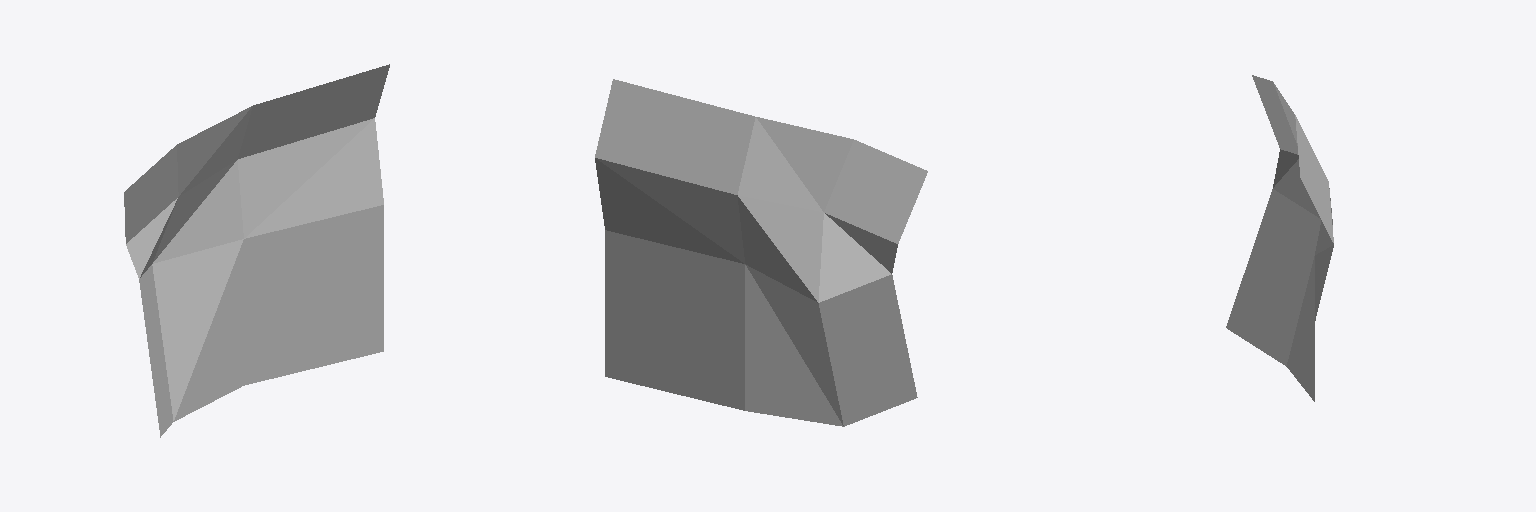
Rendered from smooth-grid.obj.
3 views of the same model, side by side, from view 1: azimuth 30°, elevation 25°; view 2: azimuth 150°, elevation 25°; view 3: azimuth 270°, elevation 25° (orthographic).
Parts seen in each view (by area): view 1: Plane.001; view 2: Plane.001; view 3: Plane.001.
Part boxes in pixels (x1,y1,x2,y2): Plane.001: (124,64,389,437); Plane.001: (595,79,927,426); Plane.001: (1226,75,1333,401).
Size of the model in its own units: 2.08 by 2.03 by 0.6689.